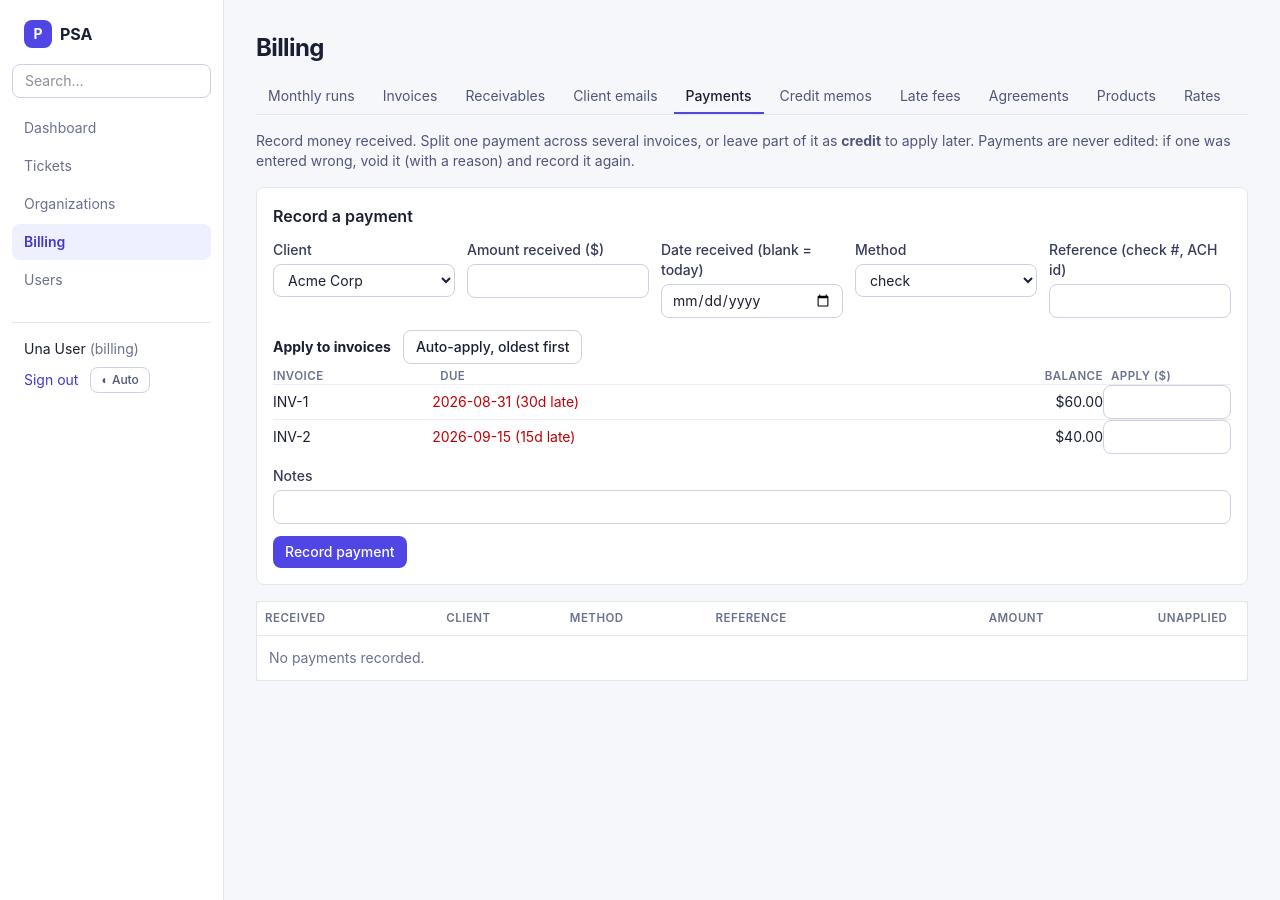
Test: record payment › auto-applies oldest first and says how much becomes credit
expect the text "INV-1" is shown: met, box [273,385,432,420]
Type "120.00" into the field labelled "Amount received ($)" at (558, 281), box [467,264,649,298]
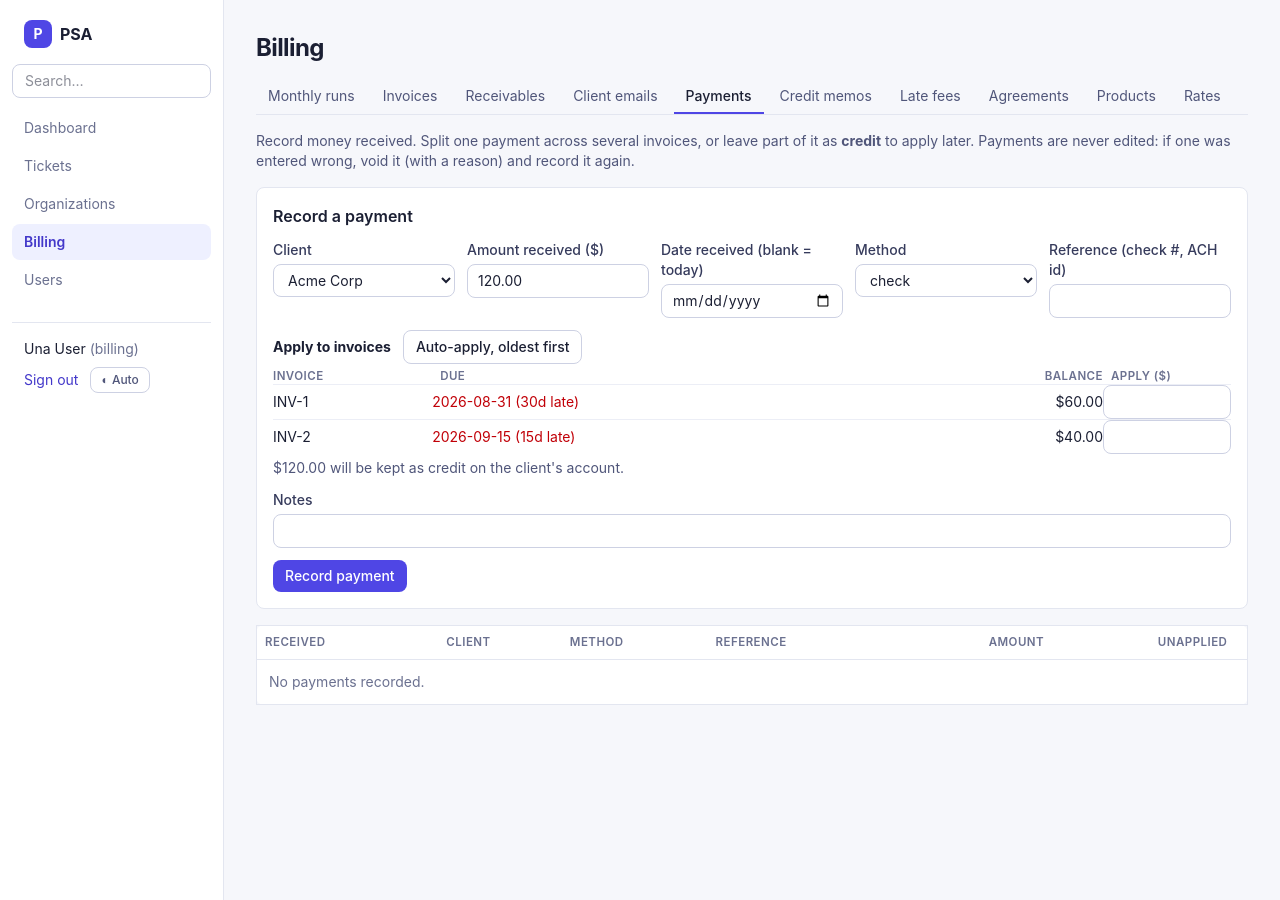
Click the button "Auto-apply, oldest first" at (493, 347), box [403,330,582,364]
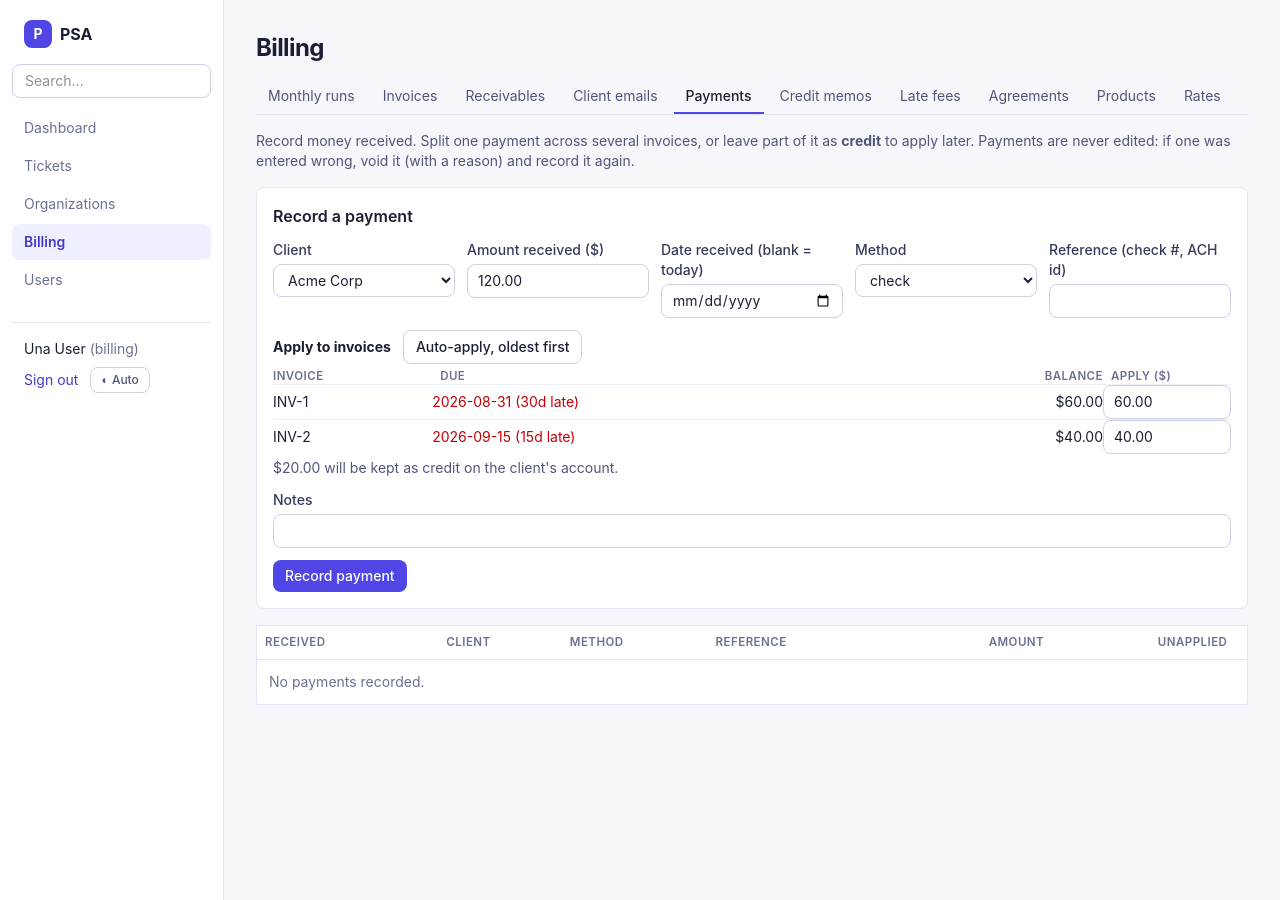
expect the field named "Apply to INV-1" holds "60.00": met, box [1103,385,1231,419]
expect the field named "Apply to INV-2" holds "40.00": met, box [1103,420,1231,454]
expect the text "$20.00 will be kept as credit on the client's account." is shown: met, box [273,459,618,476]
